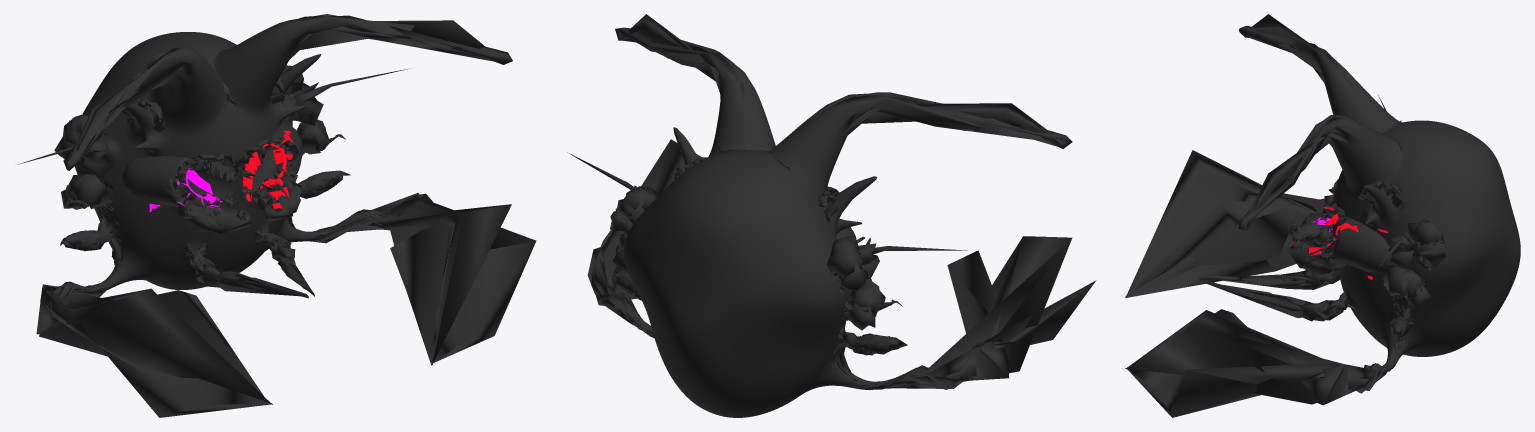
The model's file is cutie.glb.
3 renders of one model, left to right at view 1: azimuth 30°, elevation 25°; view 2: azimuth 150°, elevation 25°; view 3: azimuth 270°, elevation 25°, orthographic. The views are drawn at different scales.
Parts seen in each view (by area): view 1: PolySphere; view 2: PolySphere; view 3: PolySphere.
Boxes of the visible parts, x1,y1,x2,y2 form: PolySphere: [17, 14, 536, 417]; PolySphere: [567, 14, 1096, 417]; PolySphere: [1125, 14, 1520, 417].
Size of the model in its own units: 4 by 2.48 by 3.38.
